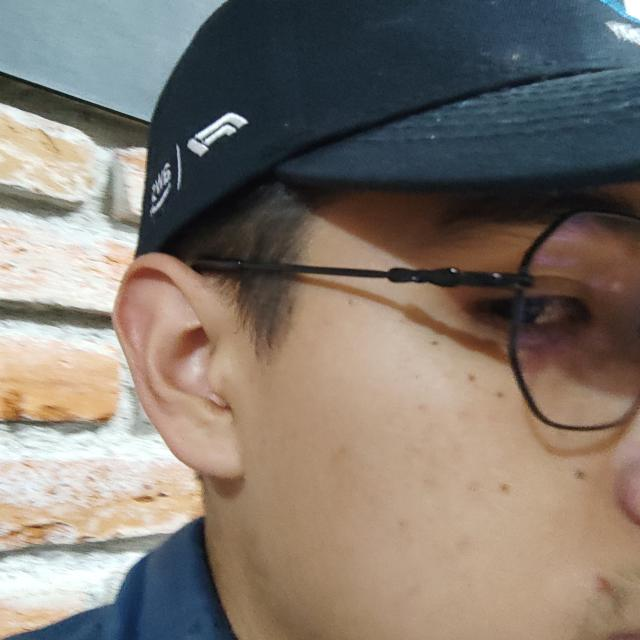ear: (114, 254, 258, 498)
